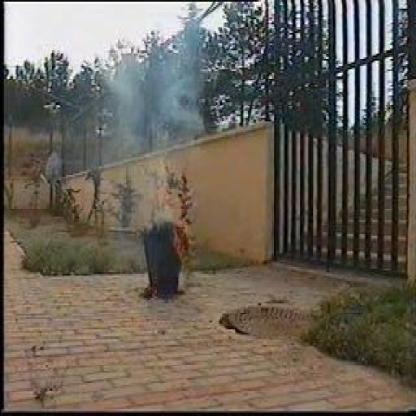-: (119, 84, 187, 166)
foggia-v2-map80-epoch100 - v1 4323: (176, 220, 197, 257)
